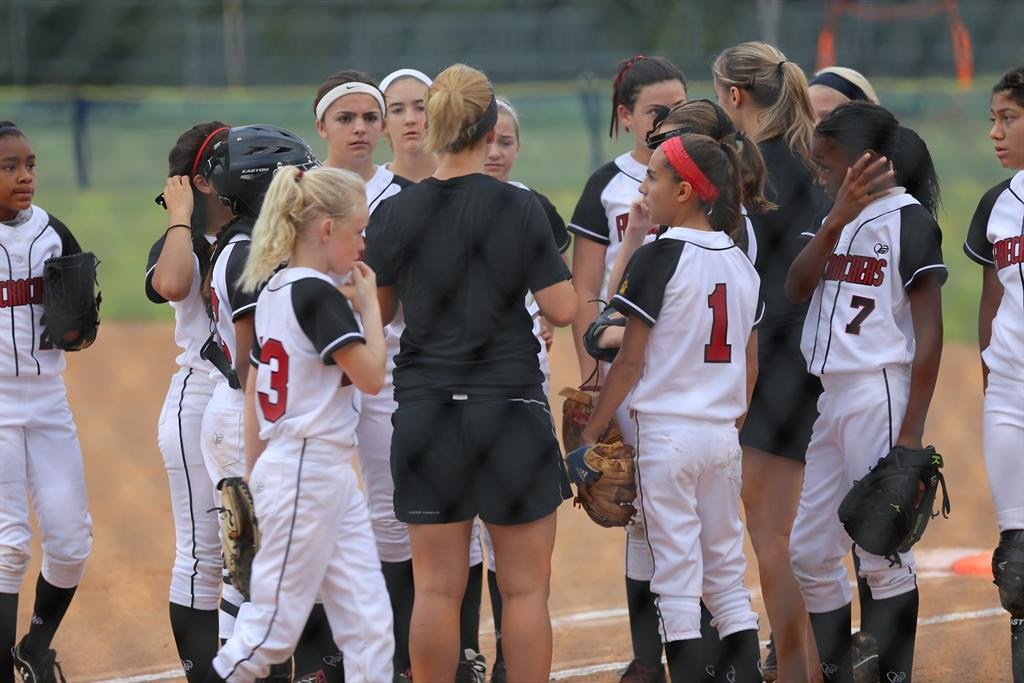face: (632, 84, 686, 152), (325, 99, 383, 159), (812, 138, 860, 204), (806, 93, 857, 152), (386, 93, 435, 153), (332, 195, 368, 276), (3, 135, 37, 211), (638, 158, 677, 224), (991, 95, 1024, 168), (477, 116, 515, 179), (713, 74, 747, 134)
